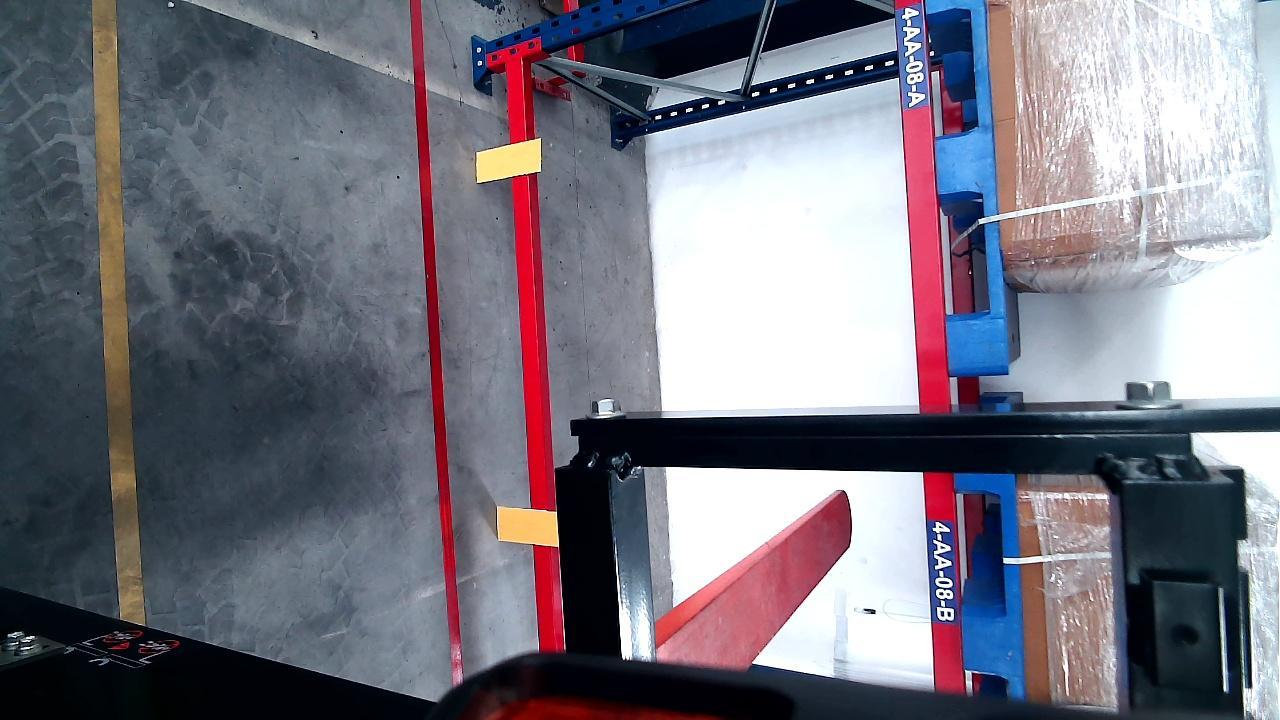red_line: (408, 2, 464, 683)
yellow_line: (90, 0, 146, 628)
